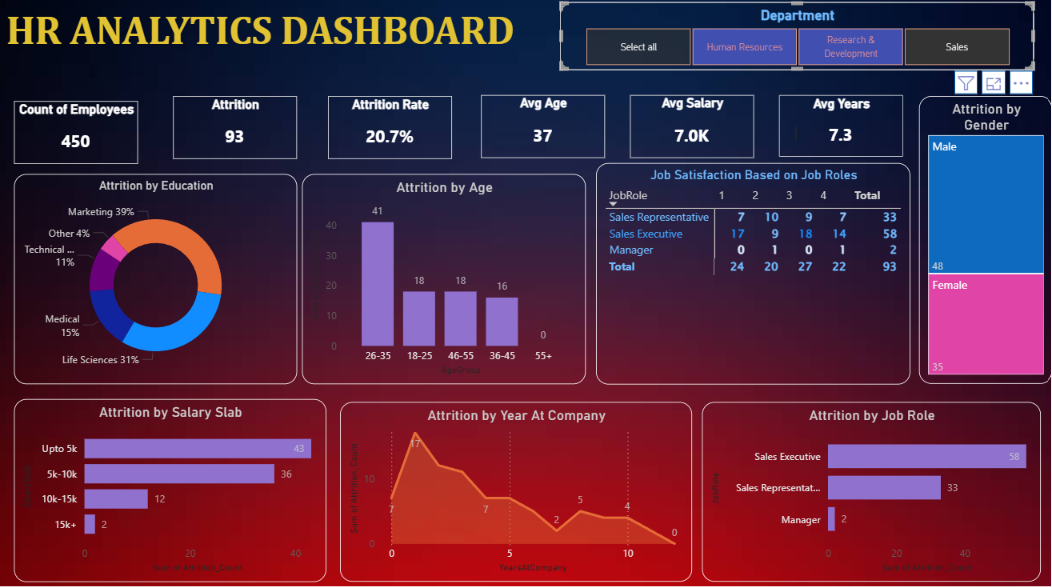

The dashboard page shown, as its layout file describes it:
{"tool":"powerbi","page":{"name":"Page 1","canvas":[1280,720],"ordinal":0},"visuals":[{"type":"cardVisual","title":"Avg Age","fields":{"Data":["Avg(HR_Analytics.Age)"]},"box":[589.9,119.4,149.6,76],"z":0},{"type":"cardVisual","title":"Attrition","fields":{"Data":["Sum(HR_Analytics.Attrition_Count)"]},"box":[218.4,120.6,149.6,76],"z":1000},{"type":"cardVisual","title":"Attrition Rate","fields":{"Data":["HR_Analytics.Attrition_Rate"]},"box":[405.4,120.6,149.6,76],"z":2000},{"type":"cardVisual","title":"Count of Employees","fields":{"Data":["CountNonNull(HR_Analytics.EmpID)"]},"box":[26.5,126.7,149.6,76],"z":3000},{"type":"cardVisual","title":"Avg Salary","fields":{"Data":["Avg(HR_Analytics.MonthlyIncome)"]},"box":[769.7,119.4,149.6,76],"z":4000},{"type":"cardVisual","title":"Avg Years","fields":{"Data":["Avg(HR_Analytics.YearsAtCompany)"]},"box":[949.5,119.4,149.6,74.8],"z":5000},{"type":"donutChart","title":"Attrition by Education","fields":{"Category":["HR_Analytics.EducationField"],"Y":["Sum(HR_Analytics.Attrition_Count)"]},"box":[26.5,214.7,341.4,253.4],"z":6000},{"type":"columnChart","title":"Attrition by Age","fields":{"Category":["HR_Analytics.AgeGroup"],"Y":["Sum(HR_Analytics.Attrition_Count)"]},"box":[374,214.7,342.6,253.4],"z":7000},{"type":"pivotTable","title":"Job Satisfaction Based on Job Roles","fields":{"Rows":["HR_Analytics.JobRole"],"Columns":["HR_Analytics.JobSatisfaction"],"Values":["Sum(HR_Analytics.Attrition_Count)"]},"box":[729.2,201.2,379.6,266.8],"z":8000},{"type":"barChart","title":"Attrition by Salary Slab","fields":{"Category":["HR_Analytics.SalarySlab"],"Y":["Sum(HR_Analytics.Attrition_Count)"]},"box":[26.5,486.2,376.4,220.8],"z":9000},{"type":"barChart","title":"Attrition by Job Role","fields":{"Y":["Sum(HR_Analytics.Attrition_Count)"],"Category":["HR_Analytics.JobRole"]},"box":[856.6,489.8,409,217.2],"z":10000},{"type":"areaChart","title":"Attrition by Year At Company","fields":{"Category":["HR_Analytics.YearsAtCompany"],"Y":["Sum(HR_Analytics.Attrition_Count)"]},"box":[419.8,489.8,424.7,217.2],"z":11000},{"type":"treemap","title":"Attrition by Gender","fields":{"Values":["Sum(HR_Analytics.Attrition_Count)"],"Group":["HR_Analytics.Gender"]},"box":[1118.4,120.6,161.7,347.5],"z":12000},{"type":"slicer","title":"Department","fields":{"Values":["HR_Analytics.Department"]},"box":[685.3,7.2,571.9,82],"z":13000},{"type":"textbox","box":[12.1,7.2,673.2,100.1],"z":14000}]}

Visuals, with their boxes in screenshot pixels (x1, y1, x2, y2), scaled from the page's 1280x720 canvas onto the 1052x587 screenshot:
"Avg Age" cardVisual: l=485, t=97, r=608, b=159
"Attrition" cardVisual: l=179, t=98, r=302, b=160
"Attrition Rate" cardVisual: l=333, t=98, r=456, b=160
"Count of Employees" cardVisual: l=22, t=103, r=145, b=165
"Avg Salary" cardVisual: l=633, t=97, r=756, b=159
"Avg Years" cardVisual: l=780, t=97, r=903, b=158
"Attrition by Education" donutChart: l=22, t=175, r=302, b=382
"Attrition by Age" columnChart: l=307, t=175, r=589, b=382
"Job Satisfaction Based on Job Roles" pivotTable: l=599, t=164, r=911, b=382
"Attrition by Salary Slab" barChart: l=22, t=396, r=331, b=576
"Attrition by Job Role" barChart: l=704, t=399, r=1040, b=576
"Attrition by Year At Company" areaChart: l=345, t=399, r=694, b=576
"Attrition by Gender" treemap: l=919, t=98, r=1051, b=382
"Department" slicer: l=563, t=6, r=1033, b=73
textbox: l=10, t=6, r=563, b=87
